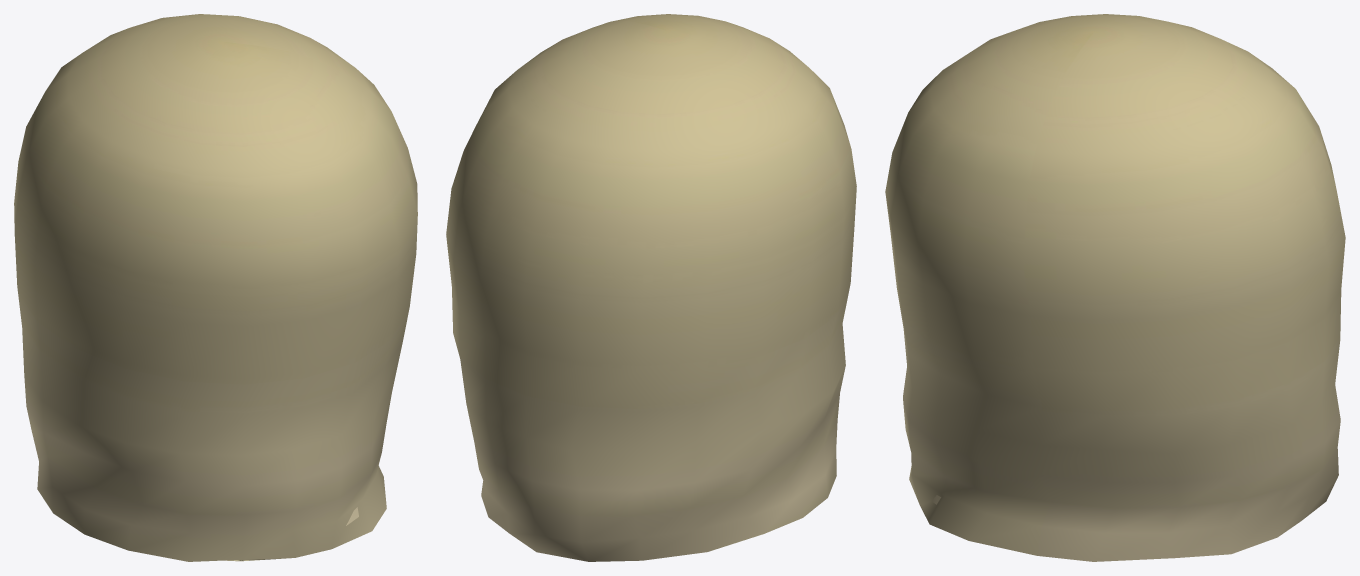
File: bagopen02.fbx
3 views of the same model, side by side, from view 1: azimuth 30°, elevation 25°; view 2: azimuth 150°, elevation 25°; view 3: azimuth 270°, elevation 25° (orthographic). The views are drawn at different scales.
Parts seen in each view (by area): view 1: bagOP; view 2: bagOP; view 3: bagOP.
Boxes of the visible parts, <box> form: bagOP: <box>14,14,417,561</box>; bagOP: <box>446,14,856,561</box>; bagOP: <box>885,14,1345,561</box>.
Bounding box in the file's own units: 334 × 420 × 379.
